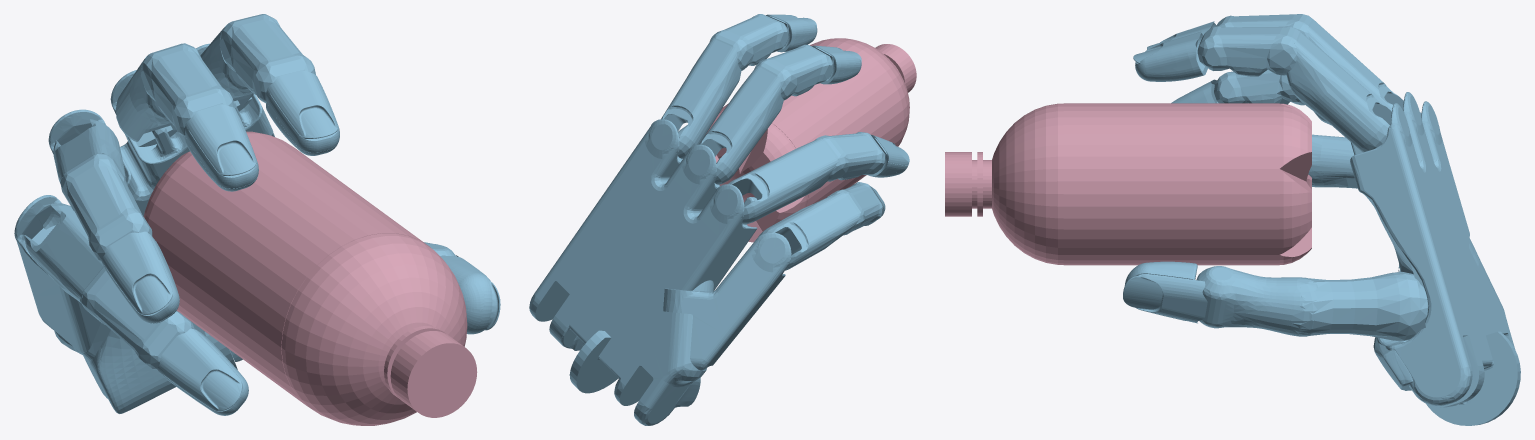
3 views of the same model, side by side, from view 1: azimuth 30°, elevation 25°; view 2: azimuth 150°, elevation 25°; view 3: azimuth 270°, elevation 25° (orthographic). The views are drawn at different scales.
Parts seen in each view (by area): view 1: world, water_bottle.stl; view 2: world, water_bottle.stl; view 3: world, water_bottle.stl.
Boxes of the visible parts, x1=… form: world: x1=14, y1=14, x2=500, y2=415; water_bottle.stl: x1=143, y1=131, x2=477, y2=425; world: x1=529, y1=14, x2=909, y2=425; water_bottle.stl: x1=706, y1=38, x2=916, y2=242; world: x1=1123, y1=14, x2=1520, y2=425; water_bottle.stl: x1=945, y1=103, x2=1311, y2=265.
Size of the model in its own units: 0.1287 by 0.1542 by 0.2143.
